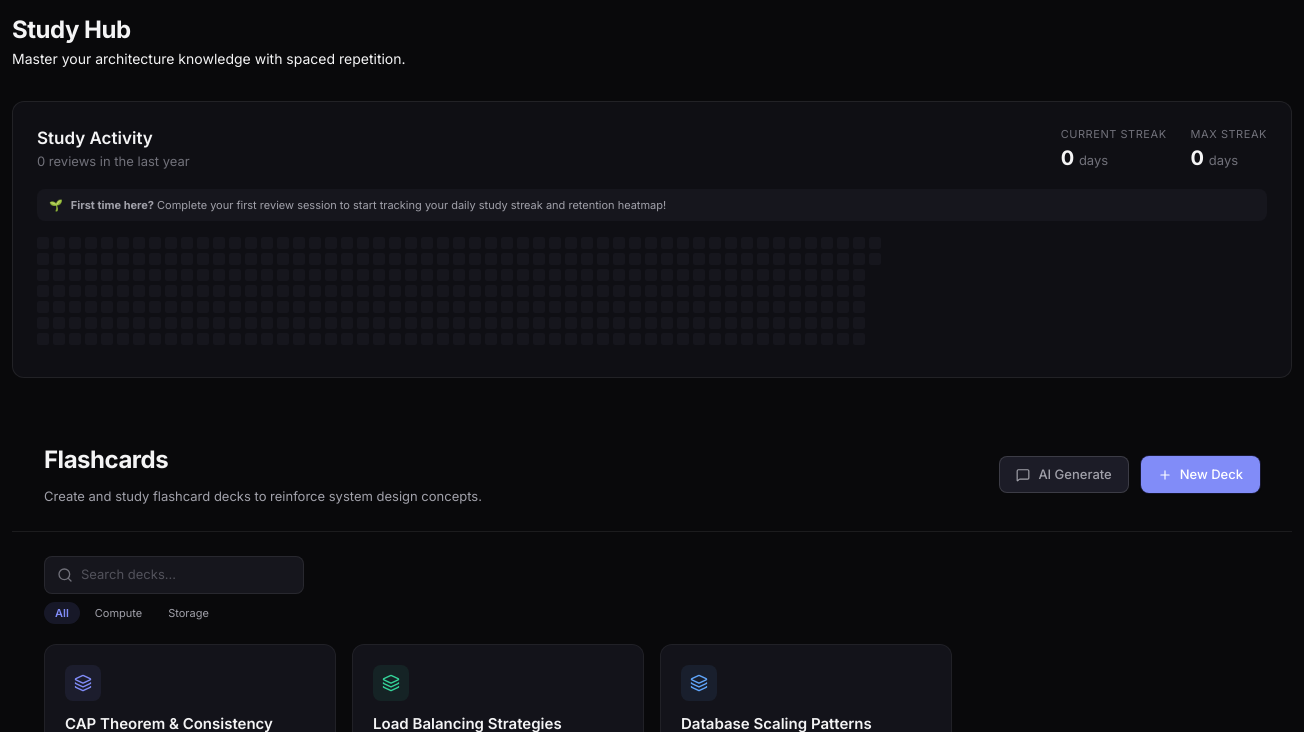
Test: Builder and Flashcards Comprehensive Test Suite › Flashcards Page Tests › 13. deck search filtering
Check: the text "CAP Theorem & Consistency" is shown, box [65,714,273,731]
Step 1. Type "CAP" into the field with id "search-decks" → (186, 575), box [81,565,291,585]
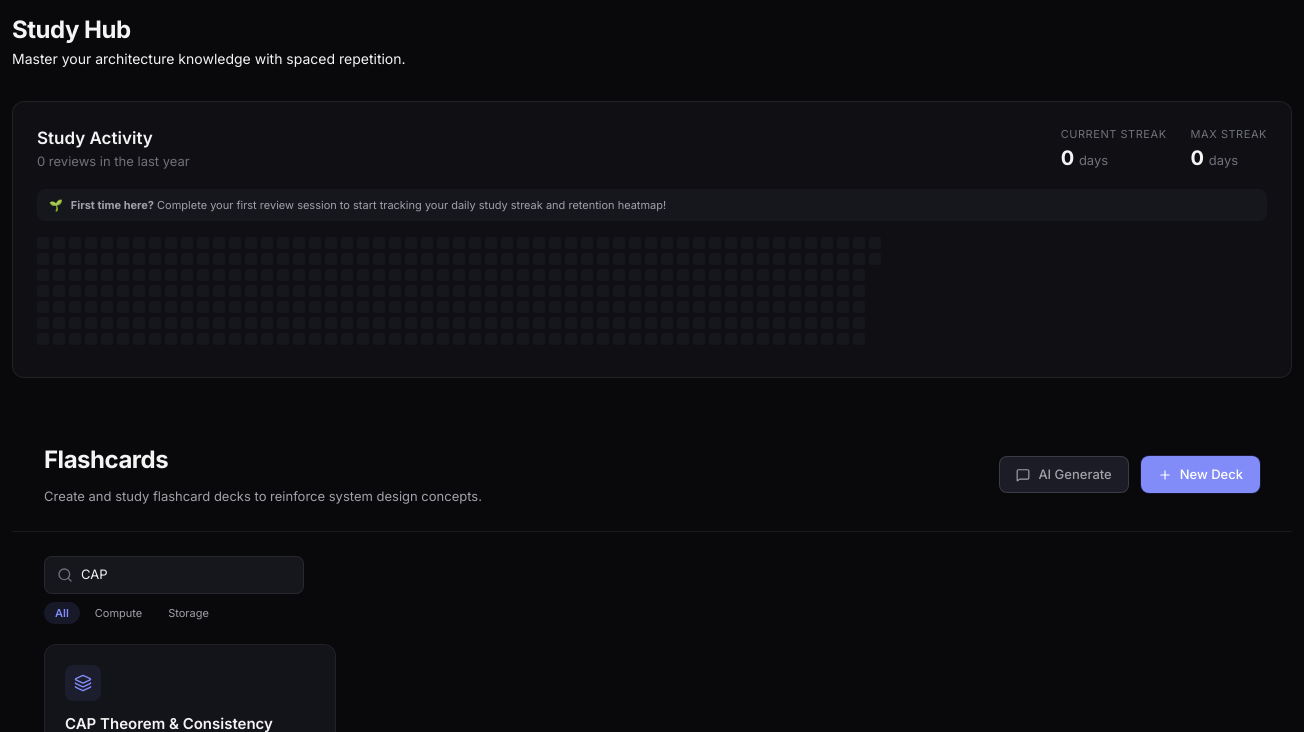
Check: the text "CAP Theorem & Consistency" is shown, box [65,714,273,731]
Step 2. Replace the text in the field with id "search-decks" with "xyz123abc" → (186, 575), box [81,565,291,585]
(page scrolled)
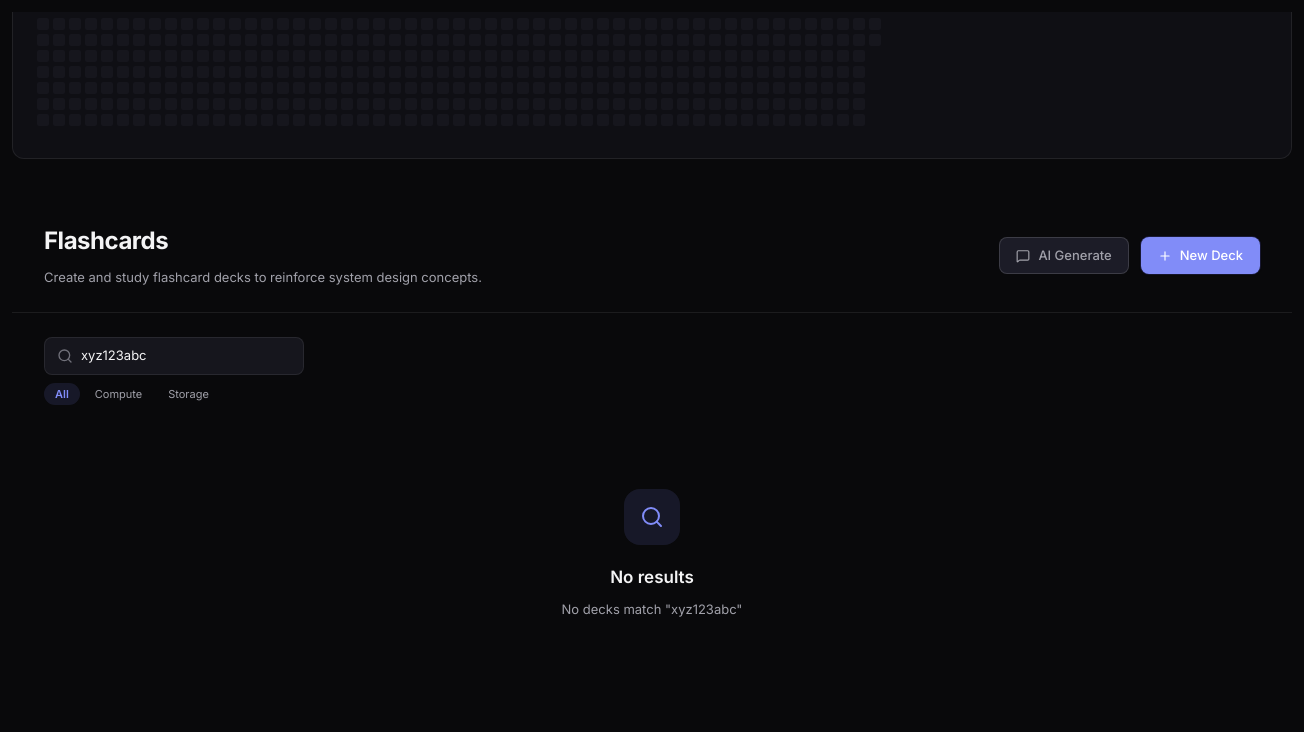
Check: the heading "No results" is shown, box [610,565,694,591]
Check: the text "No decks match \"xyz123abc\"" is shown, box [562,599,742,620]
